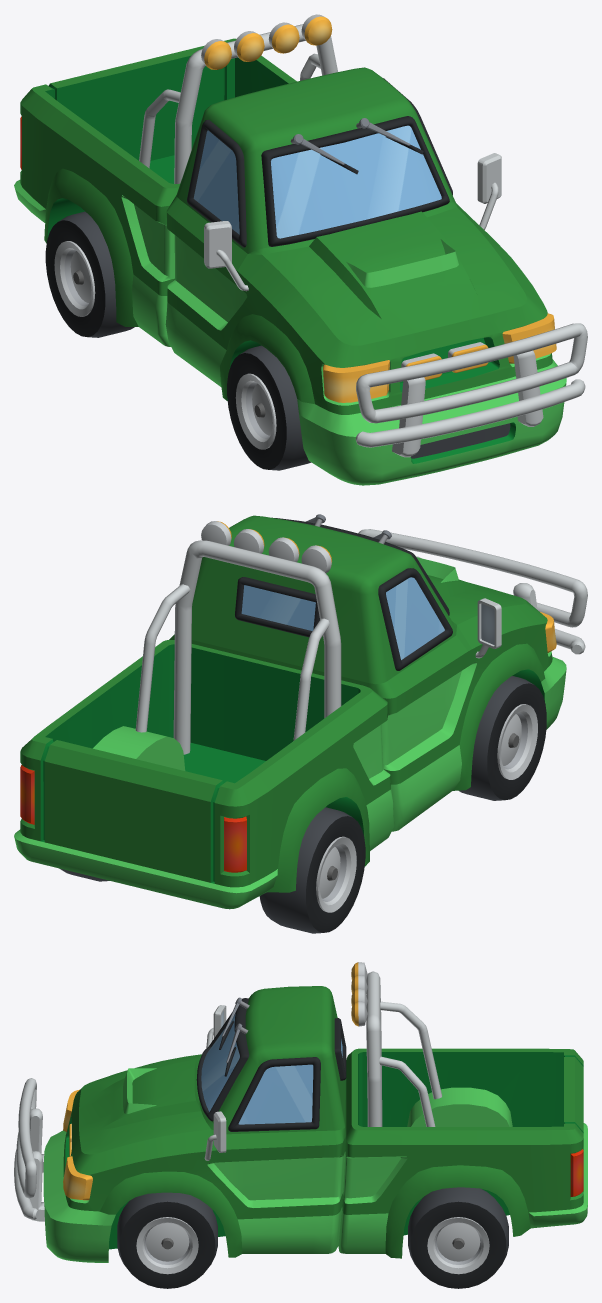
The model's file is Pickup_0_color_1.fbx.
The picture shows the model from 3 angles, top to bottom: view 1: azimuth 30°, elevation 25°; view 2: azimuth 150°, elevation 25°; view 3: azimuth 270°, elevation 25°; orthographic projection. The views are drawn at different scales.
Visible parts, largest first — view 1: Pickup_0_altColor_mesh, Pickup_0_Wheel_FR_mesh, Pickup_0_Wheel_BR_mesh; view 2: Pickup_0_altColor_mesh, Pickup_0_Wheel_BR_mesh, Pickup_0_Wheel_FR_mesh; view 3: Pickup_0_altColor_mesh, Pickup_0_Wheel_BL_mesh, Pickup_0_Wheel_FL_mesh.
Part boxes in pixels (x1=…): Pickup_0_altColor_mesh: x1=14, y1=14, x2=587, y2=485; Pickup_0_Wheel_FR_mesh: x1=227, y1=345, x2=311, y2=470; Pickup_0_Wheel_BR_mesh: x1=45, y1=211, x2=134, y2=337; Pickup_0_altColor_mesh: x1=14, y1=514, x2=587, y2=909; Pickup_0_Wheel_BR_mesh: x1=259, y1=807, x2=365, y2=933; Pickup_0_Wheel_FR_mesh: x1=459, y1=676, x2=546, y2=800; Pickup_0_altColor_mesh: x1=14, y1=962, x2=587, y2=1262; Pickup_0_Wheel_BL_mesh: x1=408, y1=1187, x2=508, y2=1288; Pickup_0_Wheel_FL_mesh: x1=117, y1=1192, x2=217, y2=1288.
Size of the model in its own units: 149 by 154 by 312.
